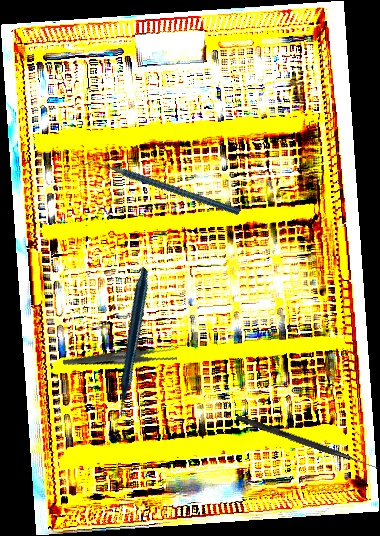Chopper: (78, 114, 242, 264)
Dressing Forceps: (62, 322, 180, 391)
Handpiece: (50, 265, 208, 423)
Hook Surgical: (234, 414, 380, 471)
